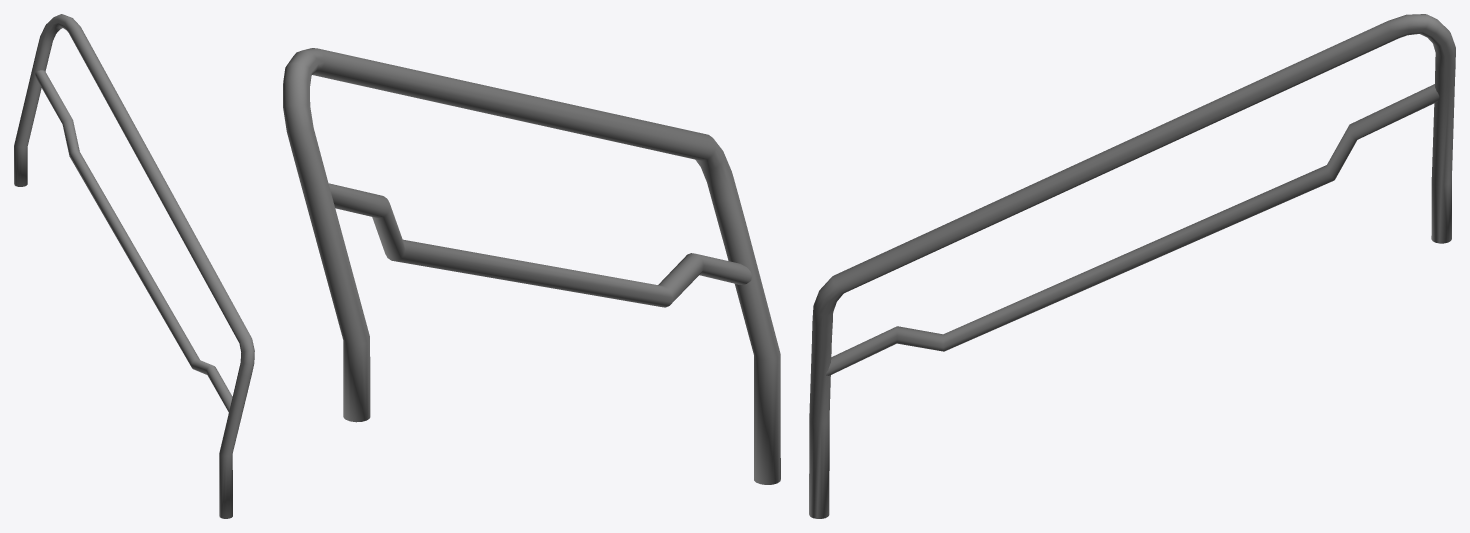
Rendered from q-scifi-mod-prop-rail-incline-short-r.glb.
3 views of the same model, side by side, from view 1: azimuth 30°, elevation 25°; view 2: azimuth 150°, elevation 25°; view 3: azimuth 270°, elevation 25° (orthographic). The views are drawn at different scales.
Parts seen in each view (by area): view 1: Prop_Rail_Incline_Short_R; view 2: Prop_Rail_Incline_Short_R; view 3: Prop_Rail_Incline_Short_R.
Boxes of the visible parts, x1=… form: Prop_Rail_Incline_Short_R: x1=14, y1=14, x2=254, y2=518; Prop_Rail_Incline_Short_R: x1=283, y1=48, x2=780, y2=484; Prop_Rail_Incline_Short_R: x1=809, y1=14, x2=1455, y2=518.
Bounding box in the file's own units: 0.2545 × 1.7 × 1.89.
Materials: 1 (1 with a texture image).
